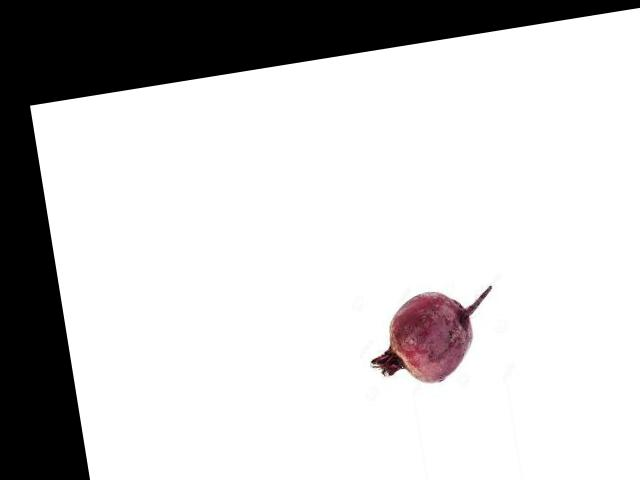beet: (360, 282, 503, 391)
